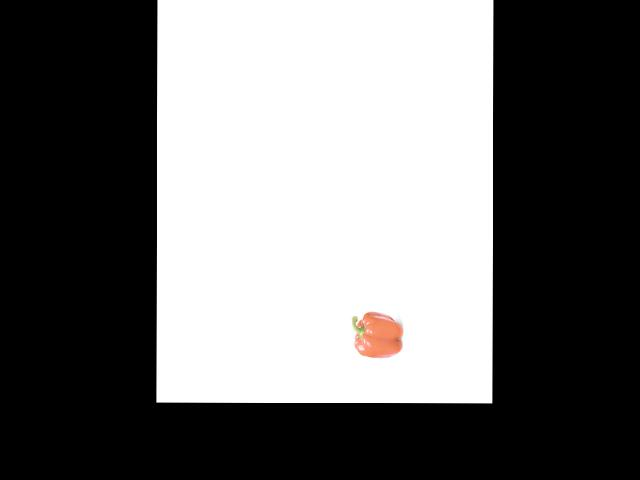bell_pepper: (350, 311, 404, 359)
